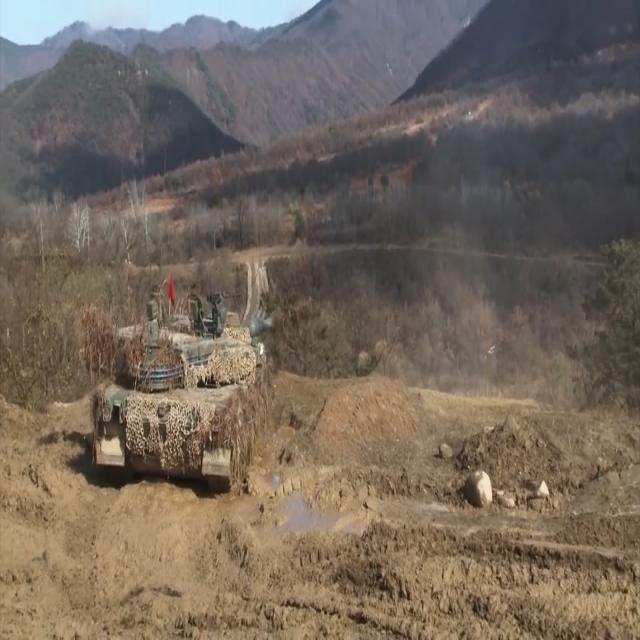korea tank: (80, 284, 314, 498)
